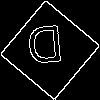D: (25, 25, 66, 74)
